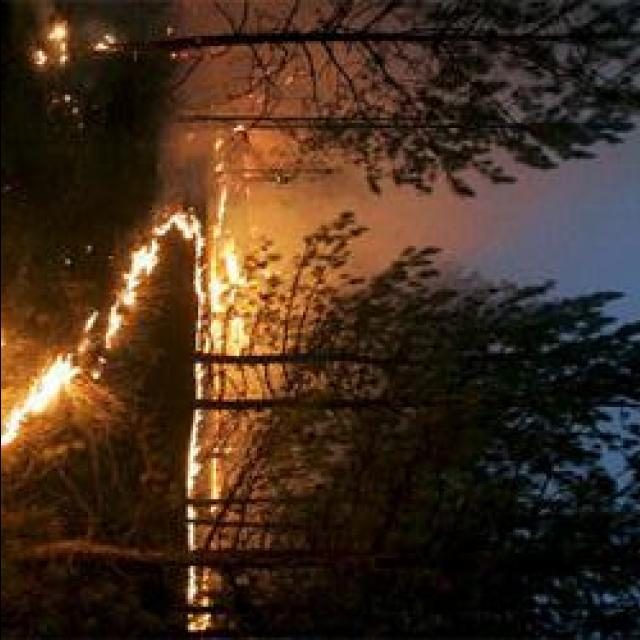fire: (22, 354, 78, 417), (180, 414, 208, 496), (213, 242, 245, 302), (122, 240, 162, 278), (190, 238, 210, 302), (0, 404, 31, 444), (154, 214, 198, 238), (183, 570, 197, 604)
